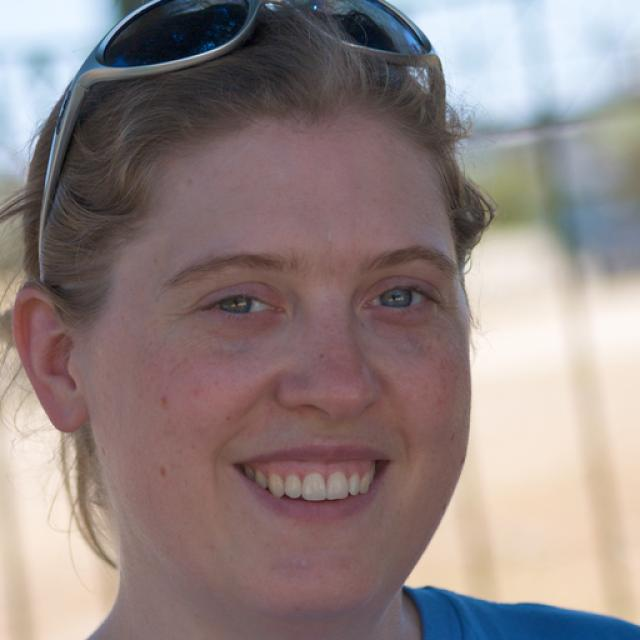Pigmentation: (299, 310, 370, 406)
